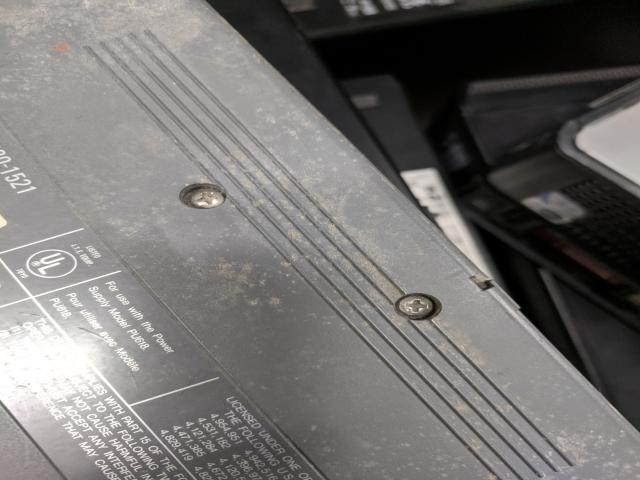CRS: (179, 183, 229, 210), (394, 292, 440, 319)
